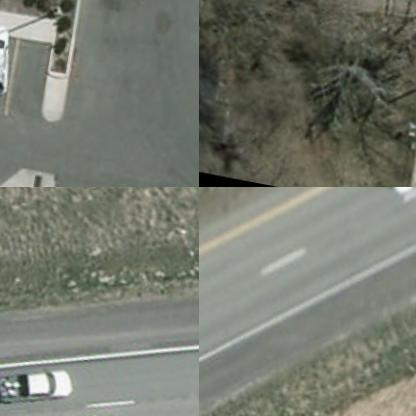car: (0, 18, 21, 102), (47, 402, 121, 415)
pickup: (0, 349, 76, 415)
